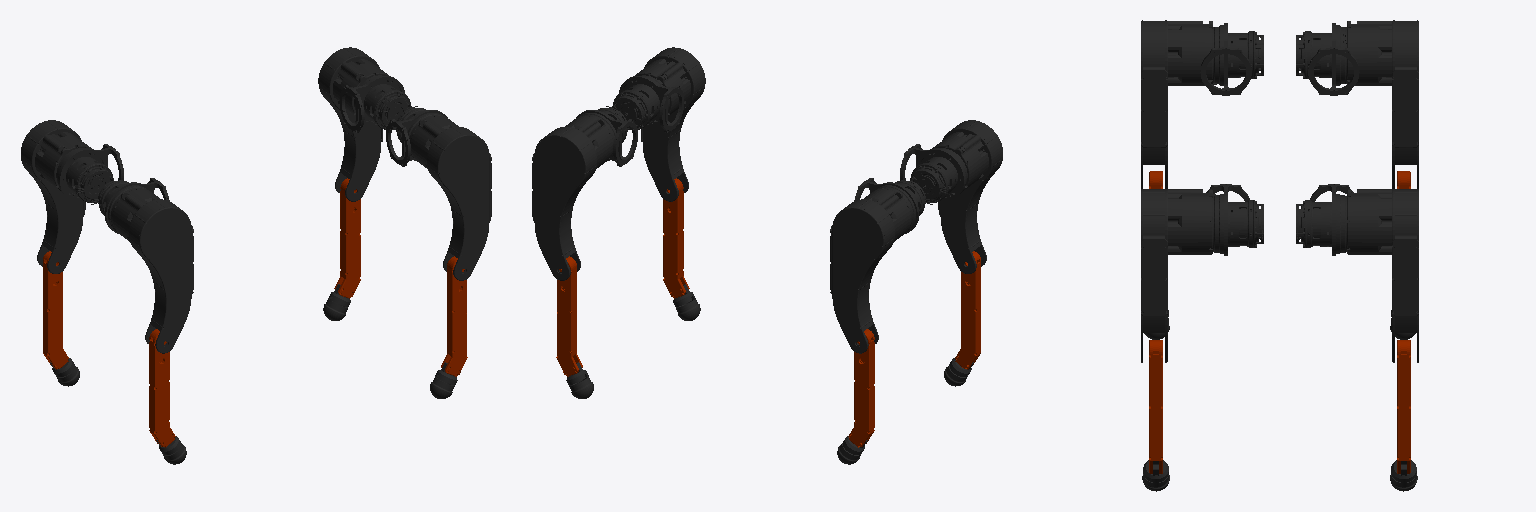
robot.urdf — tekirV3:
<?xml version="1.0" encoding="utf-8"?>
<!-- All knees looks insde -->
<robot name="tekirV3">

  <material name="black">
    <color rgba="0.2 0.2 0.2 1"/>
  </material>
  <material name="auburn" >
    <color rgba="0.6039215686274509 0.18823529411764706 0.00392156862745098 1" />
  </material>
  <material name="olivedrab" >
    <color rgba="0.43529411764705883 0.4627450980392157 0.19607843137254902 1" />
  </material>
  
  <link name="torso">
	  <inertial>
     <origin xyz="0.00145 0.003271 0.01792 " rpy="0 0 0"/>  <!-- 0.00145 0.003271 0.01792 -->
     <mass value="20.516"/>
     <inertia ixx="0.41"  ixy="0.003"  ixz="-0.012" iyy="0.908" iyz="0.007" izz="1.192" />
    </inertial>
    <visual>
     <origin xyz="0 0 0" rpy="0 0 0" />
     <geometry>
      <mesh filename="../mesh/torso_rs.stl" scale="0.001 0.001 0.001"/>
     </geometry>
     <material name="black"></material>
    </visual>
    <collision>
     <origin xyz="0 0 0" rpy="0 0 0"/>
     <geometry>
       <box size="0.576 0.358 0.202"/>
     </geometry>
    </collision> 
  </link>

  <link name="HIP_FE_Motor_lf">
	  <inertial>
     <origin xyz="-0.003717 -0.015862 -0.000015" rpy="0 0 0"/>
     <mass value="1.681"/>
     <inertia ixx="0.003"  ixy="9.851e-5"  ixz="-1.213e-6" iyy="0.003" iyz="-1.327e-6" izz="0.003" />
    </inertial>
	  <visual>
     <origin xyz="0.079 0 0" rpy="0 0 1.57079632679" />
     <geometry>
       <mesh filename="../mesh/actuator_hip_fe.stl" scale="0.001 0.001 0.001"/>
     </geometry>
     <material name="black"></material>
    </visual>
	  <collision>
     <origin xyz="0.079 -0.0264 0" rpy="1.57079632679 0 0"/>
     <geometry>
       <cylinder radius="0.0625" length="0.1052"/>
     </geometry>
    </collision>
  </link>

  <link name="HIP_FE_Motor_rf">
	  <inertial>
     <origin xyz="-0.003717 0.015862 -0.000015" rpy="0 0 0"/>
     <mass value="1.681"/>
     <inertia ixx="0.003"  ixy="9.851e-5"  ixz="-1.213e-6" iyy="0.003" iyz="-1.327e-6" izz="0.003" />
    </inertial>
	  <visual>
     <origin xyz="0.079 0 0" rpy="3.14159265 0 -1.57079632679" />
     <geometry>
       <mesh filename="../mesh/actuator_hip_fe.stl" scale="0.001 0.001 0.001"/>
     </geometry>
     <material name="black"></material>
    </visual>
	  <collision>
     <origin xyz="0.079 0.0264 0" rpy="1.57079632679 0 0"/>
     <geometry>
       <cylinder radius="0.0625" length="0.1052"/>
     </geometry>
    </collision>
  </link>

  <link name="HIP_FE_Motor_lb">
	  <inertial>
     <origin xyz="0.003717 -0.015862 -0.000015" rpy="0 0 0"/>
     <mass value="1.681"/>
     <inertia ixx="0.003"  ixy="9.851e-5"  ixz="-1.213e-6" iyy="0.003" iyz="-1.327e-6" izz="0.003" />
    </inertial>
	  <visual>
     <origin xyz="-0.079 0 0" rpy="0 3.14159265 -1.57079632679" />
     <geometry>
       <mesh filename="../mesh/actuator_hip_fe.stl" scale="0.001 0.001 0.001"/>
     </geometry>
     <material name="black"></material>
    </visual>
	  <collision>
     <origin xyz="-0.079 -0.0264 0" rpy="1.57079632679 0 0"/>
     <geometry>
       <cylinder radius="0.0625" length="0.1052"/>
     </geometry>
    </collision>
  </link>

  <link name="HIP_FE_Motor_rb">
	  <inertial>
     <origin xyz="0.003717 0.015862 -0.000015" rpy="0 0 0"/>
     <mass value="1.681"/>
     <inertia ixx="0.003"  ixy="9.851e-5"  ixz="-1.213e-6" iyy="0.003" iyz="-1.327e-6" izz="0.003" />
    </inertial>
	  <visual>
     <origin xyz="-0.079 0 0" rpy="0 0 -1.57079632679" />
     <geometry>
       <mesh filename="../mesh/actuator_hip_fe.stl" scale="0.001 0.001 0.001"/>
     </geometry>
     <material name="black"></material>
    </visual>
	  <collision>
     <origin xyz="-0.079 0.0264 0" rpy="1.57079632679 0 0"/>
     <geometry>
       <cylinder radius="0.0625" length="0.1052"/>
     </geometry>
    </collision>
  </link>

  <link name="thigh_lf">
	  <inertial>
     <origin xyz="-0.003917 0.076506 -0.013793" rpy="0 0 0"/>
     <mass value="2.005"/>
     <inertia ixx="0.008"  ixy="-1.818e-4"  ixz="5.307e-4" iyy="0.007" iyz="0.001" izz="0.004" />
    </inertial>
	  <visual>
     <origin xyz="0 0 0" rpy="0 0 0" />
     <geometry>
       <mesh filename="../mesh/thigh_L.stl" scale="0.001 0.001 0.001"/>
     </geometry>
     <material name="black"></material>
    </visual>
	  <collision>
     <origin xyz="0 0.1136015 -0.135" rpy="0 0 0"/>
     <geometry>
       <box size="0.04 0.053203 0.27"/>
     </geometry>
    </collision>
  </link>

  <link name="thigh_rf">
	  <inertial>
     <origin xyz="-0.003917 -0.076506 -0.013793" rpy="0 0 0"/>
     <mass value="2.005"/>
     <inertia ixx="0.008"  ixy="-1.818e-4"  ixz="5.307e-4" iyy="0.007" iyz="0.001" izz="0.004" />
    </inertial>
	  <visual>
     <origin xyz="0 0 0" rpy="0 0 0" />
     <geometry>
       <mesh filename="../mesh/thigh_R.stl" scale="0.001 0.001 0.001"/>
     </geometry>
     <material name="black"></material>
    </visual>
	  <collision>
     <origin xyz="0 -0.1136015 -0.135" rpy="0 0 0"/>
     <geometry>
       <box size="0.04 0.053203 0.27"/>
     </geometry>
    </collision>
  </link>

  <link name="thigh_lb">
	  <inertial>
     <origin xyz="0.003917 0.076506 -0.013793" rpy="0 0 0"/>
     <mass value="2.005"/>
     <inertia ixx="0.008"  ixy="-1.818e-4"  ixz="5.307e-4" iyy="0.007" iyz="0.001" izz="0.004" />
    </inertial>
	  <visual>
     <origin xyz="0 0 0" rpy="0 0 0" />
     <geometry>
       <mesh filename="../mesh/thigh_L.stl" scale="0.001 0.001 0.001"/>
     </geometry>
     <material name="black"></material>
    </visual>
	  <collision>
     <origin xyz="0 0.1136015 -0.135" rpy="0 0 0"/>
     <geometry>
       <box size="0.04 0.053203 0.27"/>
     </geometry>
    </collision>
  </link>

  <link name="thigh_rb">
	  <inertial>
     <origin xyz="0.003917 -0.076506 -0.013793" rpy="0 0 0"/>
     <mass value="2.005"/>
     <inertia ixx="0.008"  ixy="-1.818e-4"  ixz="5.307e-4" iyy="0.007" iyz="0.001" izz="0.004" />
    </inertial>
	  <visual>
     <origin xyz="0 0 0" rpy="0 0 0" />
     <geometry>
       <mesh filename="../mesh/thigh_R.stl" scale="0.001 0.001 0.001"/>
     </geometry>
     <material name="black"></material>
    </visual>
	  <collision>
     <origin xyz="0 -0.1136015 -0.135" rpy="0 0 0"/>
     <geometry>
       <box size="0.04 0.053203 0.27"/>
     </geometry>
    </collision>
  </link>

  <link name="shank_lf">
	  <inertial>
     <origin xyz="-0.015346 -0.000102 -0.186842" rpy="0 0 0"/>
     <mass value="0.21"/>
     <inertia ixx="0.002"  ixy="-7.048e-7"  ixz="-2.682e-4" iyy="0.002" iyz="-1.088e-5" izz="1.086e-4" />
    </inertial>
	  <visual>
     <origin xyz="0 0 0" rpy="0 0 1.57079632679" />
     <geometry>
       <mesh filename="../mesh/shank.stl" scale="0.001 0.001 0.001"/>
     </geometry>
     <material name="auburn"></material>
    </visual>
	  <collision>
     <origin xyz="0 0 -0.112141" rpy="0 0 0"/>
     <geometry>
       <box size="0.04 0.026 0.224282"/>
     </geometry>
    </collision>
  </link>

  <link name="shank_rf">
	  <inertial>
     <origin xyz="-0.015346 0.000102 -0.186842" rpy="0 0 0"/>
     <mass value="0.21"/>
     <inertia ixx="0.002"  ixy="-7.048e-7"  ixz="-2.682e-4" iyy="0.002" iyz="-1.088e-5" izz="1.086e-4" />
    </inertial>
	  <visual>
     <origin xyz="0 0 0" rpy="0 0 1.57079632679" />
     <geometry>
       <mesh filename="../mesh/shank.stl" scale="0.001 0.001 0.001"/>
     </geometry>
     <material name="auburn"></material>
    </visual>
	  <collision>
     <origin xyz="0 0 -0.112141" rpy="0 0 0"/>
     <geometry>
       <box size="0.04 0.026 0.224282"/>
     </geometry>
    </collision>
  </link>
  
  <link name="shank_lb">
	  <inertial>
     <origin xyz="-0.015346 -0.000102 -0.186842" rpy="0 0 0"/>
     <mass value="0.21"/>
     <inertia ixx="0.002"  ixy="-7.048e-7"  ixz="-2.682e-4" iyy="0.002" iyz="-1.088e-5" izz="1.086e-4" />
    </inertial>
	  <visual>
     <origin xyz="0 0 0" rpy="0 0 -1.57079632679" />
     <geometry>
       <mesh filename="../mesh/shank.stl" scale="0.001 0.001 0.001"/>
     </geometry>
     <material name="auburn"></material>
    </visual>
	  <collision>
     <origin xyz="0 0 -0.112141" rpy="0 0 0"/>
     <geometry>
       <box size="0.04 0.026 0.224282"/>
     </geometry>
    </collision>
  </link>
  
  <link name="shank_rb">
	  <inertial>
     <origin xyz="-0.015346 0.000102 -0.186842" rpy="0 0 0"/>
     <mass value="0.21"/>
     <inertia ixx="0.002"  ixy="-7.048e-7"  ixz="-2.682e-4" iyy="0.002" iyz="-1.088e-5" izz="1.086e-4" />
    </inertial>
	  <visual>
     <origin xyz="0 0 0" rpy="0 0 -1.57079632679" />
     <geometry>
       <mesh filename="../mesh/shank.stl" scale="0.001 0.001 0.001"/>
     </geometry>
     <material name="auburn"></material>
    </visual>
	  <collision>
     <origin xyz="0 0 -0.112141" rpy="0 0 0"/>
     <geometry>
       <box size="0.04 0.026 0.224282"/>
     </geometry>
    </collision>
  </link>

  <link name="Foot_lf">
	  <inertial>
     <origin xyz="0 0 -0.003546" rpy="0 0 0"/>
     <mass value="0"/>
     <inertia ixx="0"  ixy="0"  ixz="0" iyy="0" iyz="0" izz="0" />
    </inertial>
	  <visual>
     <origin xyz="0 0 -0.043933" rpy="0 0 0" />
     <geometry>
       <mesh filename="../mesh/foot.stl" scale="0.001 0.001 0.001"/>
     </geometry>
     <material name="black"></material>
    </visual>
	  <collision>
     <origin xyz="0 0 -0.080131" rpy="0 0 0"/>
     <geometry>
       <sphere radius="0.027"/>
     </geometry>
    </collision>
  </link>

  <link name="Foot_rf">
	  <inertial>
     <origin xyz="0 0 -0.003546" rpy="0 0 0"/>
     <mass value="0"/>
     <inertia ixx="0"  ixy="0"  ixz="0" iyy="0" iyz="0" izz="0" />
    </inertial>
	  <visual>
     <origin xyz="0 0 -0.043933" rpy="0 0 0" />
     <geometry>
       <mesh filename="../mesh/foot.stl" scale="0.001 0.001 0.001"/>
     </geometry>
     <material name="black"></material>
    </visual>
	  <collision>
     <origin xyz="0 0 -0.080131" rpy="0 0 0"/>
     <geometry>
       <sphere radius="0.027"/>
     </geometry>
    </collision>
  </link>
  
  <link name="Foot_lb">
	  <inertial>
     <origin xyz="0 0 -0.003546" rpy="0 0 0"/>
     <mass value="0"/>
     <inertia ixx="0"  ixy="0"  ixz="0" iyy="0" iyz="0" izz="0" />
    </inertial>
	  <visual>
     <origin xyz="0 0 -0.043933" rpy="0 0 0" />
     <geometry>
       <mesh filename="../mesh/foot.stl" scale="0.001 0.001 0.001"/>
     </geometry>
     <material name="black"></material>
    </visual>
	  <collision>
     <origin xyz="0 0 -0.080131" rpy="0 0 0"/>
     <geometry>
       <sphere radius="0.027"/>
     </geometry>
    </collision>
  </link>
  
  <link name="Foot_rb">
	  <inertial>
     <origin xyz="0 0 -0.003546" rpy="0 0 0"/>
     <mass value="0"/>
     <inertia ixx="0"  ixy="0"  ixz="0" iyy="0" iyz="0" izz="0" />
    </inertial>
	  <visual>
     <origin xyz="0 0 -0.043933" rpy="0 0 0" />
     <geometry>
       <mesh filename="../mesh/foot.stl" scale="0.001 0.001 0.001"/>
     </geometry>
     <material name="black"></material>
    </visual>
	  <collision>
     <origin xyz="0 0 -0.080131" rpy="0 0 0"/>
     <geometry>
       <sphere radius="0.027"/>
     </geometry>
    </collision>
  </link>

  <!-- Joints -->

  <joint name="Joint_HIP_AA_lf" type="revolute">
    <parent link="torso"/>
    <child link="HIP_FE_Motor_lf"/>
    <axis xyz="1 0 0"/>
    <origin xyz="0.3102 0.105 0.002" rpy="0 0 0"/>
	<limit effort="50" lower="0" upper="0" velocity="8.29031393750349"/>
	<dynamics damping="0.0" friction="0.0" rotor_inertia="0.016506"/>
  </joint>

  <joint name="Joint_HIP_AA_rf" type="revolute">
    <parent link="torso"/>
    <child link="HIP_FE_Motor_rf"/>
    <axis xyz="1 0 0"/>
    <origin xyz="0.3102 -0.105 0.002" rpy="0 0 0"/>
	<limit effort="50" lower="0" upper="0" velocity="8.29031393750349"/>
	<dynamics damping="0.0" friction="0.0" rotor_inertia="0.016506"/>
  </joint>
  
  <joint name="Joint_HIP_AA_lb" type="revolute">
    <parent link="torso"/>
    <child link="HIP_FE_Motor_lb"/>
    <axis xyz="-1 0 0"/>
    <origin xyz="-0.3102 0.105 0.002" rpy="0 0 0"/>
	<limit effort="50" lower="0" upper="0" velocity="8.29031393750349"/>
	<dynamics damping="0.0" friction="0.0" rotor_inertia="0.016506"/>
  </joint>
  
  <joint name="Joint_HIP_AA_rb" type="revolute">
    <parent link="torso"/>
    <child link="HIP_FE_Motor_rb"/>
    <axis xyz="-1 0 0"/>
    <origin xyz="-0.3102 -0.105 0.002" rpy="0 0 0"/>
	<limit effort="50" lower="0" upper="0" velocity="8.29031393750349"/>
	<dynamics damping="0.0" friction="0.0" rotor_inertia="0.016506"/>
  </joint>

  <joint name="Joint_HIP_FE_lf" type="revolute">
    <parent link="HIP_FE_Motor_lf"/>
    <child link="thigh_lf"/>
    <axis xyz="0 1 0"/>
    <origin xyz="0.079 0.0262 0" rpy="0 0 0"/>
	<limit effort="50" lower="0" upper="0" velocity="8.29031393750349"/>
	<dynamics damping="0.0" friction="0.0" rotor_inertia="0.016506"/>
  </joint>

  <joint name="Joint_HIP_FE_rf" type="revolute">
    <parent link="HIP_FE_Motor_rf"/>
    <child link="thigh_rf"/>
    <axis xyz="0 -1 0"/>
    <origin xyz="0.079 -0.0262 0" rpy="0 0 0"/>
	<limit effort="50" lower="0" upper="0" velocity="8.29031393750349"/>
	<dynamics damping="0.0" friction="0.0" rotor_inertia="0.016506"/>
  </joint>
  
  <joint name="Joint_HIP_FE_lb" type="revolute">
    <parent link="HIP_FE_Motor_lb"/>
    <child link="thigh_lb"/>
    <axis xyz="0 1 0"/>
    <origin xyz="-0.079 0.0262 0" rpy="0 0 0"/>
	<limit effort="50" lower="0" upper="0" velocity="8.29031393750349"/>
	<dynamics damping="0.0" friction="0.0" rotor_inertia="0.016506"/>
  </joint>
  
  <joint name="Joint_HIP_FE_rb" type="revolute">
    <parent link="HIP_FE_Motor_rb"/>
    <child link="thigh_rb"/>
    <axis xyz="0 -1 0"/>
    <origin xyz="-0.079 -0.0262 0" rpy="0 0 0"/>
	<limit effort="50" lower="0" upper="0" velocity="8.29031393750349"/>
	<dynamics damping="0.0" friction="0.0" rotor_inertia="0.016506"/>
  </joint>

  <joint name="Joint_KNEE_FE_lf" type="revolute">
    <parent link="thigh_lf"/>
    <child link="shank_lf"/>
    <axis xyz="0 1 0"/>
    <origin xyz="0 0.1102 -0.27" rpy="0 0 0"/>
	<limit effort="50" lower="0" upper="0" velocity="8.29031393750349"/>
	<dynamics damping="0.0" friction="0.0" rotor_inertia="0.016506"/>
  </joint>

  <joint name="Joint_KNEE_FE_rf" type="revolute">
    <parent link="thigh_rf"/>
    <child link="shank_rf"/>
    <axis xyz="0 -1 0"/>
    <origin xyz="0 -0.1102 -0.27" rpy="0 0 0"/>
	<limit effort="50" lower="0" upper="0" velocity="8.29031393750349"/>
	<dynamics damping="0.0" friction="0.0" rotor_inertia="0.016506"/>
  </joint>
  
  <joint name="Joint_KNEE_FE_lb" type="revolute">
    <parent link="thigh_lb"/>
    <child link="shank_lb"/>
    <axis xyz="0 1 0"/>
    <origin xyz="0 0.1102 -0.27" rpy="0 0 0"/>
	<limit effort="50" lower="0" upper="0" velocity="8.29031393750349"/>
	<dynamics damping="0.0" friction="0.0" rotor_inertia="0.016506"/>
  </joint>
  
  <joint name="Joint_KNEE_FE_rb" type="revolute">
    <parent link="thigh_rb"/>
    <child link="shank_rb"/>
    <axis xyz="0 -1 0"/>
    <origin xyz="0 -0.1102 -0.27" rpy="0 0 0"/>
	<limit effort="50" lower="0" upper="0" velocity="8.29031393750349"/>
	<dynamics damping="0.0" friction="0.0" rotor_inertia="0.016506"/>
  </joint>

  <joint name="footFrame_lf" type="fixed"> 
    <parent link="shank_lf"/>
    <child link="Foot_lf"/>
    <axis xyz="0 0 0"/>
    <origin xyz="0 0 -0.224282" rpy="0 0.52359877559 0"/>  <!-- 0.52359877559 -->
  </joint>

  <joint name="footFrame_rf" type="fixed">
    <parent link="shank_rf"/>
    <child link="Foot_rf"/>
    <axis xyz="0 0 0"/>
    <origin xyz="0 0 -0.224282" rpy="0 0.52359877559 0"/>
  </joint>
  
  <joint name="footFrame_lb" type="fixed">
    <parent link="shank_lb"/>
    <child link="Foot_lb"/>
    <axis xyz="0 0 0"/>
    <origin xyz="0 0 -0.224282" rpy="0 -0.52359877559 0"/>
  </joint>
  
  <joint name="footFrame_rb" type="fixed">
    <parent link="shank_rb"/>
    <child link="Foot_rb"/>
    <axis xyz="0 0 0"/>
    <origin xyz="0 0 -0.224282" rpy="0 -0.52359877559 0"/>
  </joint>

</robot>

--- What the picture shows (computed from the rendered views, not written in the file) ---
3 views of the same robot in one strip: view 1: azimuth 30°, elevation 25°; view 2: azimuth 150°, elevation 25°; view 3: azimuth 270°, elevation 25° (orthographic).
Model tekirV3 with 17 links and 16 joints (12 revolute, 4 fixed), rooted at torso, posed every joint at zero.
Links seen in each view (by area): view 1: thigh_rf, thigh_rb, thigh_lb, thigh_lf, HIP_FE_Motor_lf, HIP_FE_Motor_lb, shank_lf, shank_rb, shank_rf, shank_lb, HIP_FE_Motor_rf, HIP_FE_Motor_rb (+2 smaller); view 2: thigh_lf, thigh_lb, thigh_rb, thigh_rf, HIP_FE_Motor_rf, HIP_FE_Motor_rb, shank_rf, shank_lb, shank_lf, shank_rb, HIP_FE_Motor_lf, HIP_FE_Motor_lb (+2 smaller); view 3: thigh_lf, thigh_rf, thigh_lb, thigh_rb, HIP_FE_Motor_rb, HIP_FE_Motor_lb, HIP_FE_Motor_rf, HIP_FE_Motor_lf, shank_lf, shank_rf, Foot_lf, Foot_rf.
Link boxes in pixels (x1,y1,x2,y2): thigh_rf: (410,116,491,280); thigh_rb: (113,189,193,353); thigh_lb: (21,120,91,273); thigh_lf: (318,47,388,201); HIP_FE_Motor_lf: (339,75,417,132); HIP_FE_Motor_lb: (56,144,123,202); shank_lf: (334,178,360,298); shank_rb: (149,329,175,447); shank_rf: (441,256,467,376); shank_lb: (43,251,68,369); HIP_FE_Motor_rf: (386,108,447,166); HIP_FE_Motor_rb: (91,178,169,233); thigh_lf: (532,116,613,280); thigh_lb: (830,189,910,353); thigh_rb: (932,120,1002,273); thigh_rf: (635,47,705,201); HIP_FE_Motor_rf: (606,75,684,132); HIP_FE_Motor_rb: (900,144,967,202); shank_rf: (663,178,689,298); shank_lb: (848,329,874,447); shank_lf: (556,256,582,376); shank_rb: (955,251,980,369); HIP_FE_Motor_lf: (576,108,637,166); HIP_FE_Motor_lb: (854,178,932,233); thigh_lf: (1347,189,1418,362); thigh_rf: (1141,189,1212,362); thigh_lb: (1347,20,1418,188); thigh_rb: (1141,20,1212,188); HIP_FE_Motor_rb: (1200,23,1263,95); HIP_FE_Motor_lb: (1296,23,1359,95); HIP_FE_Motor_rf: (1206,184,1263,255); HIP_FE_Motor_lf: (1296,184,1353,255); shank_lf: (1397,340,1410,473); shank_rf: (1149,340,1162,473); Foot_lf: (1390,460,1417,491); Foot_rf: (1142,460,1169,491).
Bounding box of the posed robot: 0.9194 × 0.5428 × 0.6591 m (x, y, z).
16 mesh visuals loaded from 6 distinct referenced files (5 binary STL); not drawn: 1 (reference not matched to a file when rendering).